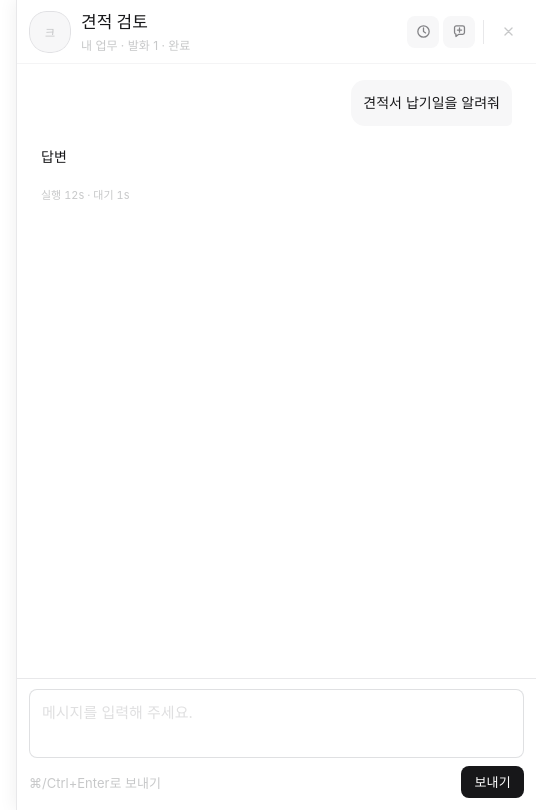
Test: ChatDrawer session switcher › lists conversations vertically and filters them by title or first message
The width and height of the screenshot is (536, 810).
Click the button named "대화 히스토리" at point(423, 32), box x1=407 y1=16 x2=439 y2=48
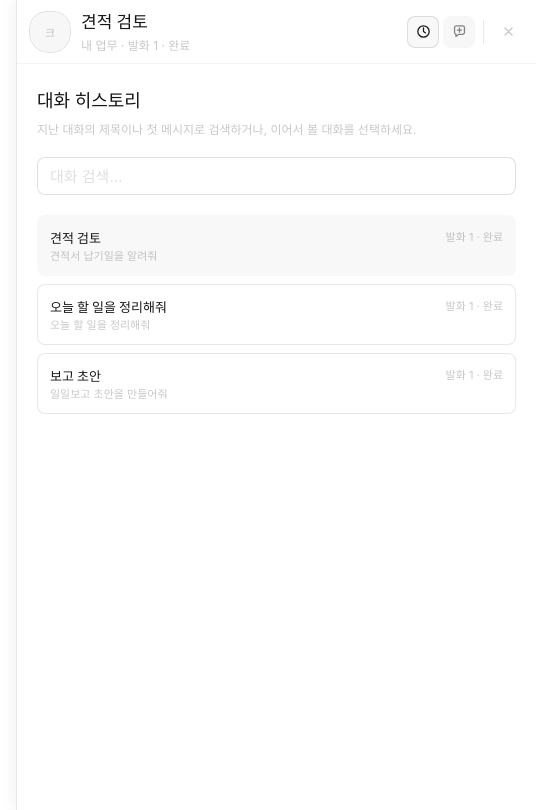
Now the button "오늘 할 일을 정리해줘 발화 1 · 완료 오늘 할 일을 정리해줘" is shown, box x1=37 y1=284 x2=516 y2=345
Type "일일보고" into the search field labelled "대화 검색" at point(276, 176), box x1=37 y1=157 x2=516 y2=195
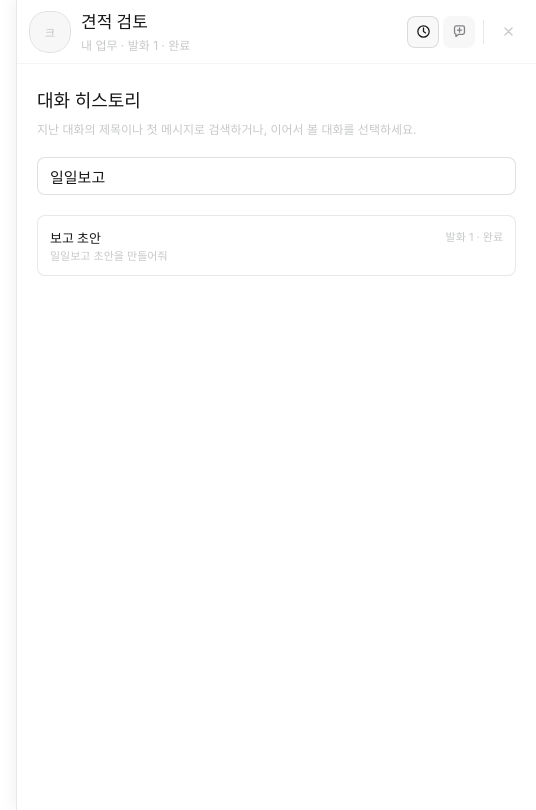
Replace the text in the search field named "대화 검색" with "없는 대화" at point(276, 176), box x1=37 y1=157 x2=516 y2=195
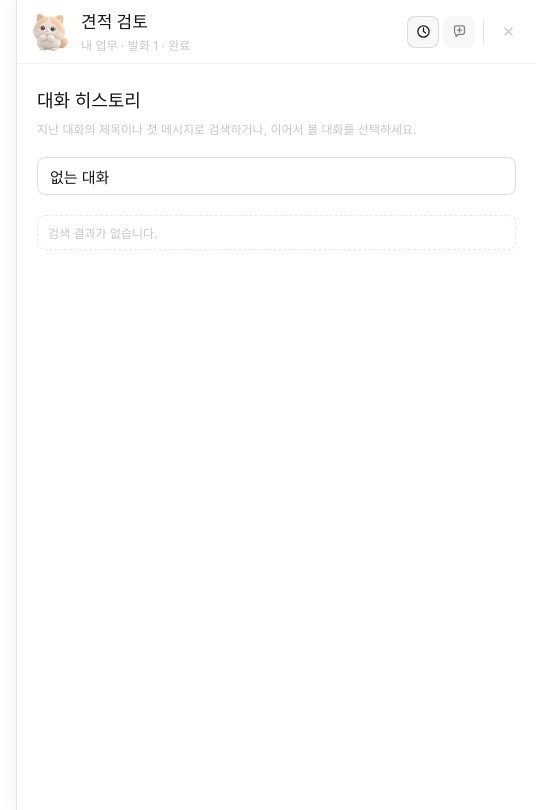
Now the text "검색 결과가 없습니다." is shown, box x1=37 y1=215 x2=516 y2=250
